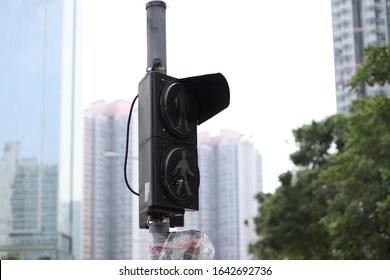off traffic light: (136, 70, 228, 216)
